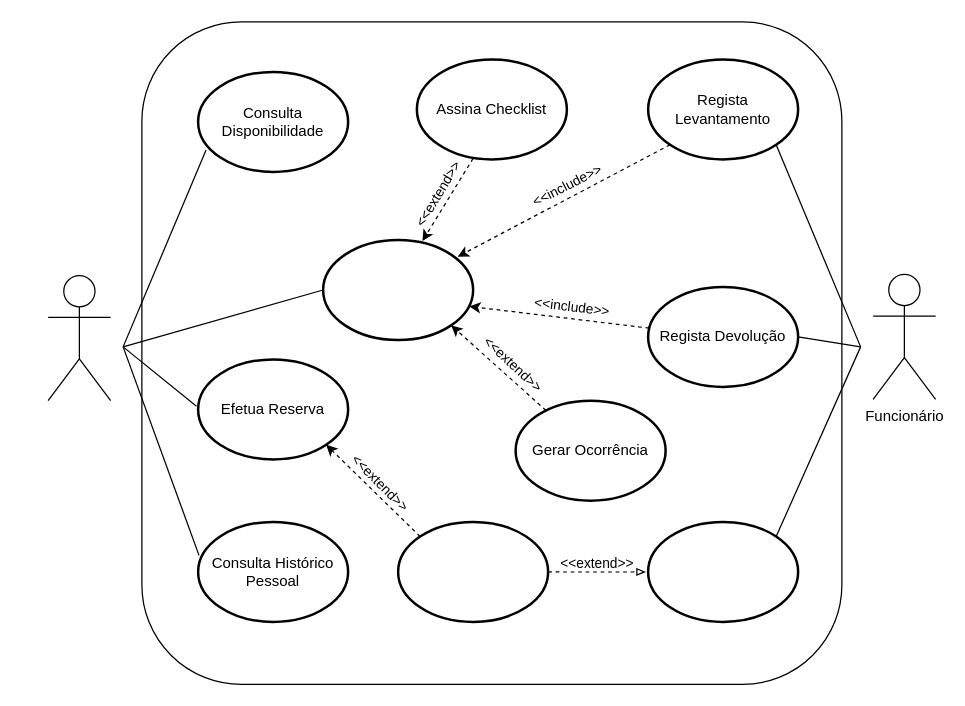
Some shapes in this 965 by 706 pixel diagram are drawn without their labels. Each missing label, with the centre of its shape:
"Cancela Reserva" goes at pixel 472 571.
"Encarregado de Educação / Aluno" goes at pixel 79 337.
"Valida Checklist" goes at pixel 397 289.
"Valida Reservas" goes at pixel 722 571.
